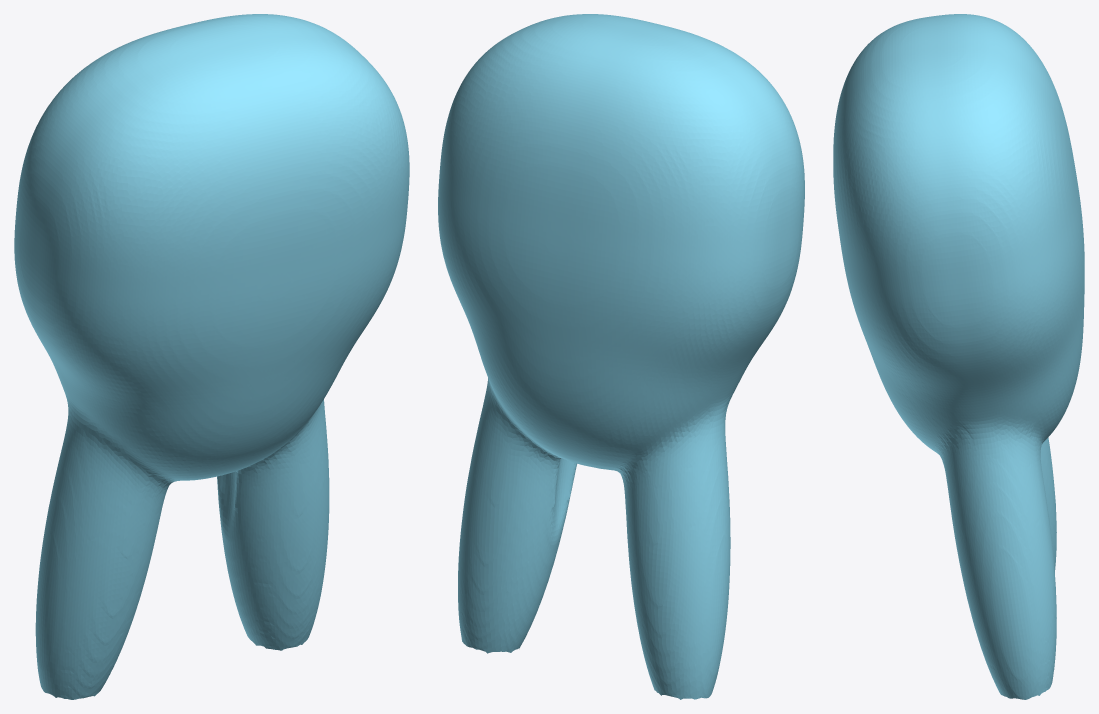
Rendered from tooth.glb.
3 renders of one model, left to right at view 1: azimuth 30°, elevation 25°; view 2: azimuth 150°, elevation 25°; view 3: azimuth 270°, elevation 25°, orthographic. The views are drawn at different scales.
Visible parts, largest first — view 1: Tooth; view 2: Tooth; view 3: Tooth.
Part boxes in pixels (x1=…): Tooth: x1=14, y1=14, x2=409, y2=699; Tooth: x1=438, y1=14, x2=804, y2=699; Tooth: x1=833, y1=14, x2=1084, y2=699.
Bounding box in the file's own units: 1.45 × 2.6 × 0.9839.
